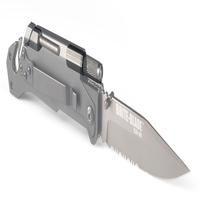knife: (7, 18, 191, 182)
